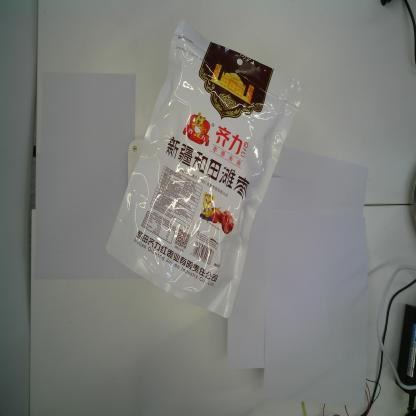Dried Food: (105, 19, 303, 318)
